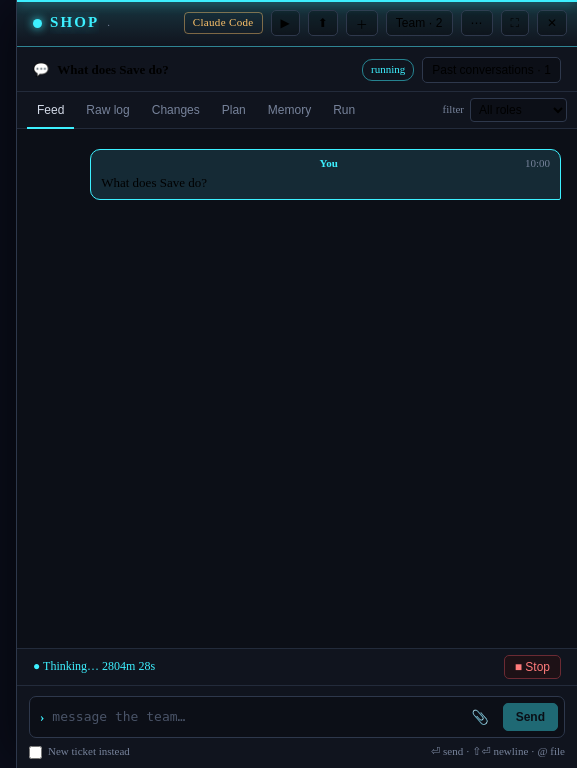
Scenario: streaming, thinking, stop › a stop error shows inline
This screenshot has width=577, height=768.
Click the button "■ Stop": (532, 667) top-left (504, 655), bottom-right (561, 679)
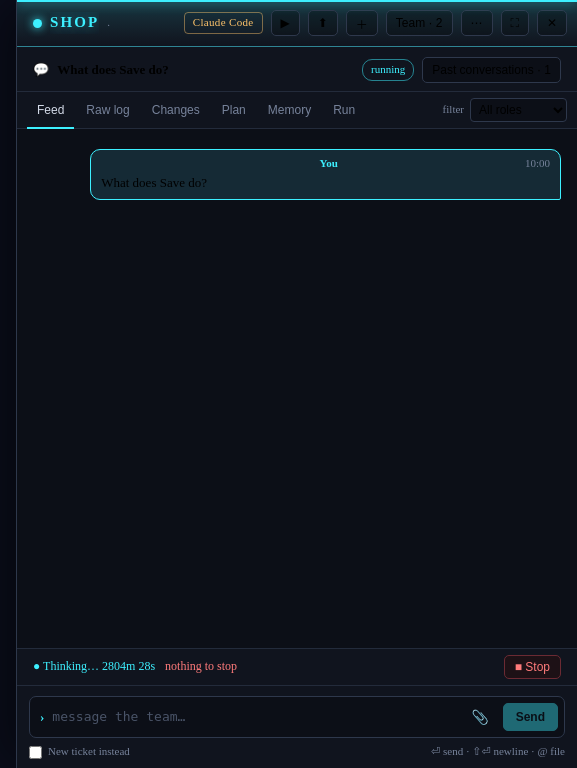
Now the text "nothing to stop" is shown, box top-left (165, 658), bottom-right (237, 676)
